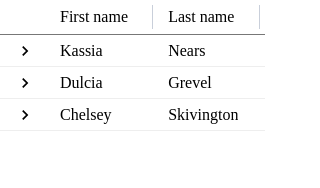
Test: rows › rowDetails are shown per row when the row is expanded
Click the button without text next to "Dulcia" at (25, 82), box x1=10 y1=68 x2=40 y2=98
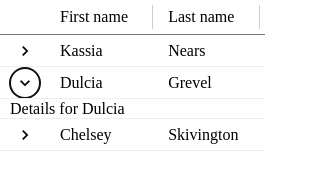
Expected: the text "Details for Dulcia" is shown, x1=10 y1=100 x2=125 y2=118
Click the button without text next to "Kassia" at (25, 50), box x1=10 y1=36 x2=40 y2=66
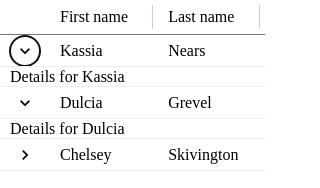
Expected: the text "Details for Dulcia" is shown, x1=10 y1=120 x2=125 y2=138
Expected: the text "Details for Kassia" is shown, x1=10 y1=68 x2=125 y2=86
